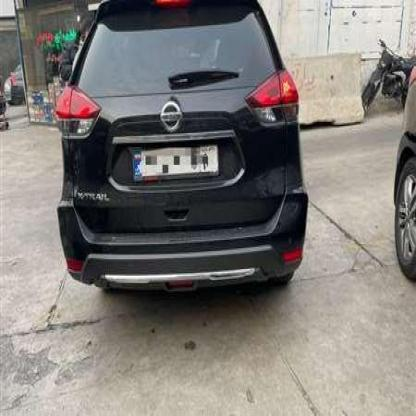Car: (53, 0, 312, 298), (394, 61, 416, 295)
